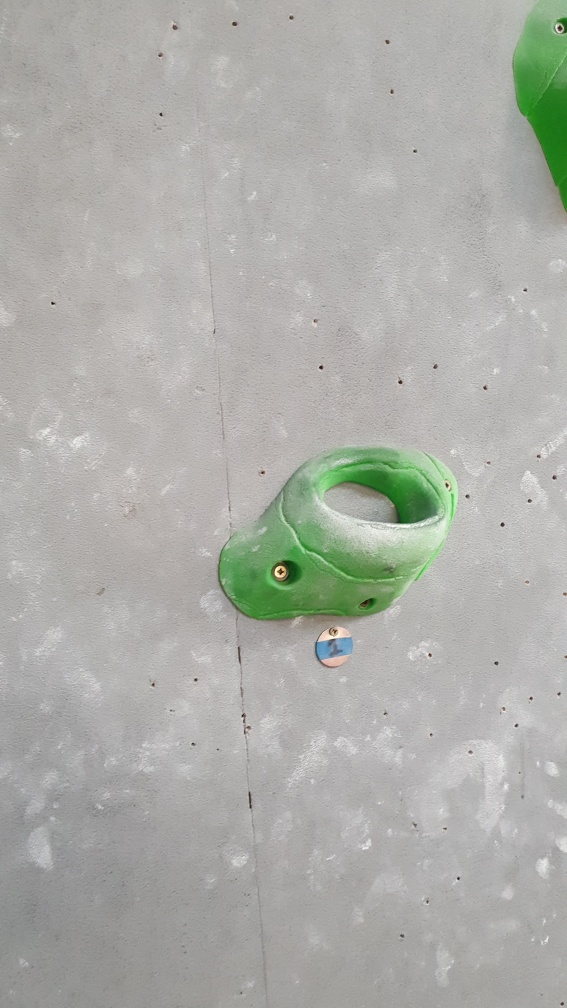Hand Start: (311, 623, 357, 672)
Pocket: (219, 442, 459, 625)
